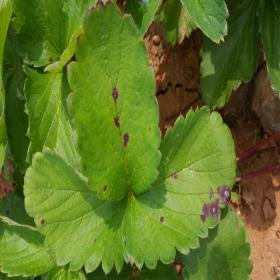Leaf Spot: (66, 0, 162, 204), (123, 104, 237, 271), (23, 145, 129, 276), (9, 0, 100, 73)
